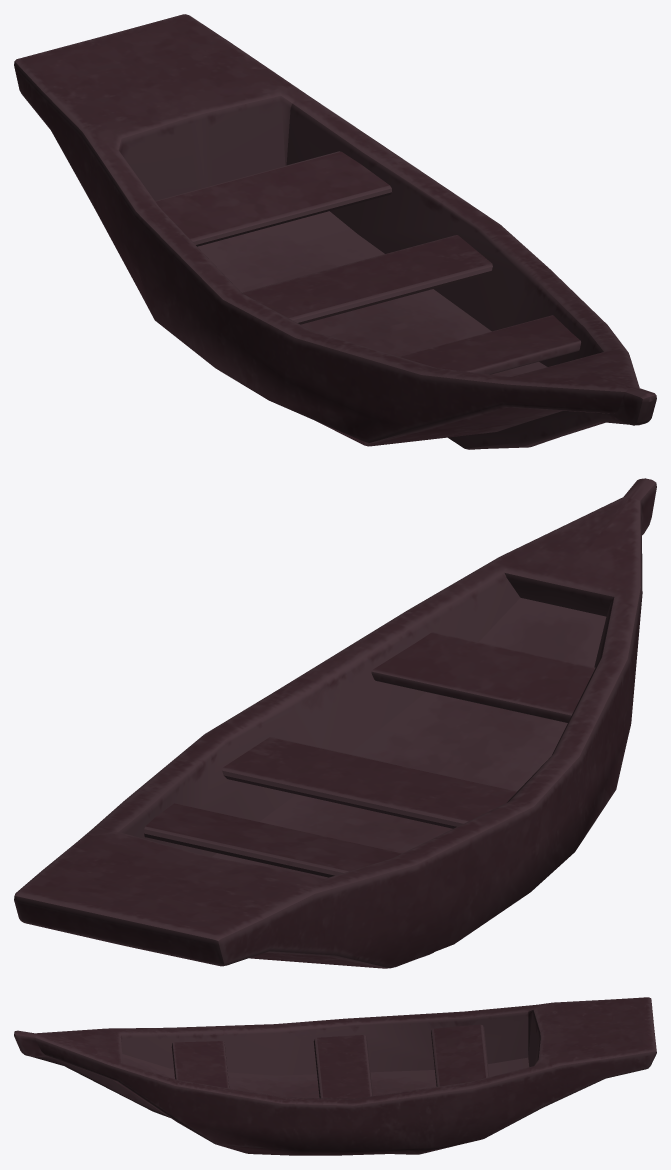
The model's file is SM_Canoe_V2.fbx.
The picture shows the model from 3 angles, top to bottom: view 1: azimuth 30°, elevation 25°; view 2: azimuth 150°, elevation 25°; view 3: azimuth 270°, elevation 25°; orthographic projection. The views are drawn at different scales.
Visible parts, largest first — view 1: SM_Canoe1, SM_Canoe4, SM_Canoe3, SM_Canoe2; view 2: SM_Canoe1, SM_Canoe3, SM_Canoe2, SM_Canoe4; view 3: SM_Canoe1, SM_Canoe3, SM_Canoe4, SM_Canoe2.
Boxes of the visible parts, box(x1,y1,x2,y2) form: SM_Canoe1: box(14, 14, 656, 449); SM_Canoe4: box(155, 151, 391, 246); SM_Canoe3: box(242, 235, 492, 324); SM_Canoe2: box(399, 315, 580, 374); SM_Canoe1: box(14, 478, 656, 968); SM_Canoe3: box(222, 737, 517, 828); SM_Canoe2: box(371, 632, 595, 722); SM_Canoe4: box(144, 803, 401, 877); SM_Canoe1: box(14, 997, 656, 1155); SM_Canoe3: box(313, 1035, 372, 1098); SM_Canoe4: box(431, 1024, 489, 1086); SM_Canoe2: box(171, 1041, 229, 1088).
Bounding box in the file's own units: 4.08 × 2.28 × 12.59.
